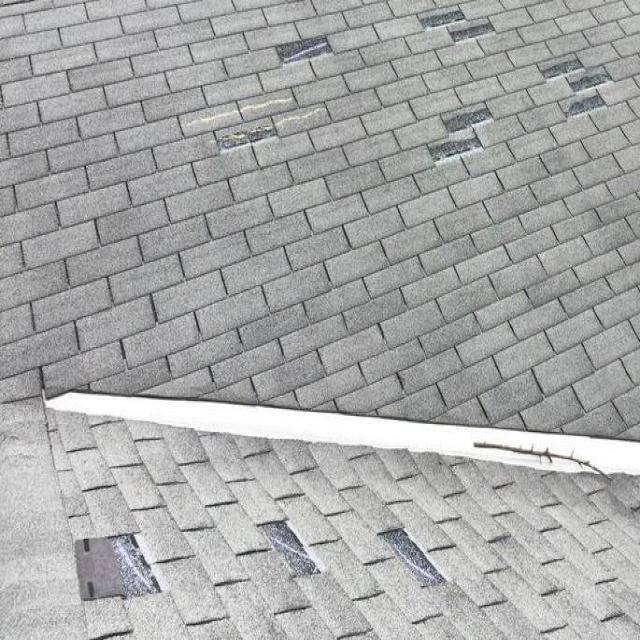damage: (67, 533, 171, 610), (251, 511, 334, 591), (420, 93, 498, 173), (376, 519, 456, 595), (539, 52, 619, 122), (414, 0, 506, 48), (272, 31, 344, 72)
